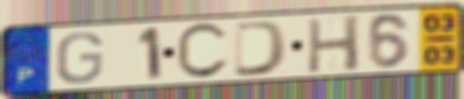1: (135, 25, 165, 83)
6: (365, 12, 416, 71)
C: (174, 21, 232, 82)
D: (231, 19, 292, 78)
G: (53, 30, 106, 86)
H: (305, 13, 363, 75)
